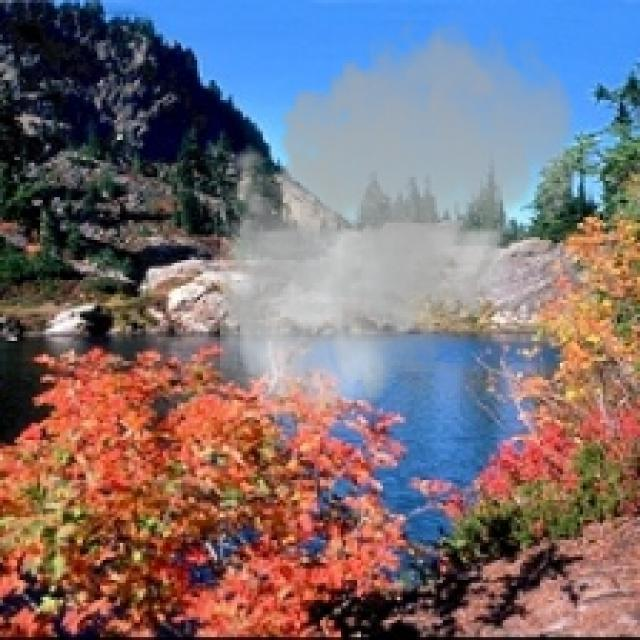Smoke: (206, 6, 583, 432)
